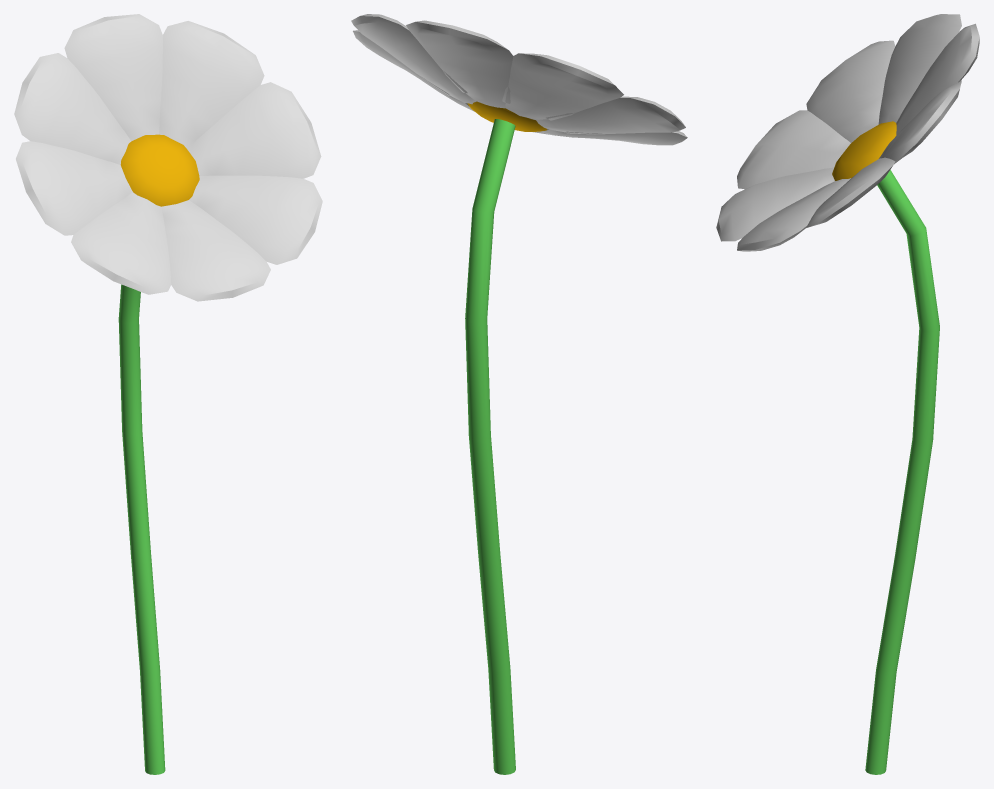
The model's file is flower.fbx.
3 views of the same model, side by side, from view 1: azimuth 30°, elevation 25°; view 2: azimuth 150°, elevation 25°; view 3: azimuth 270°, elevation 25° (orthographic). The views are drawn at different scales.
Visible parts, largest first — view 1: 柱体; view 2: 柱体; view 3: 柱体.
Part boxes in pixels (bbox=[...]): 柱体: bbox=[14, 14, 322, 774]; 柱体: bbox=[351, 14, 687, 774]; 柱体: bbox=[716, 14, 979, 774].
Size of the model in its own units: 33.35 by 103 by 42.72.
